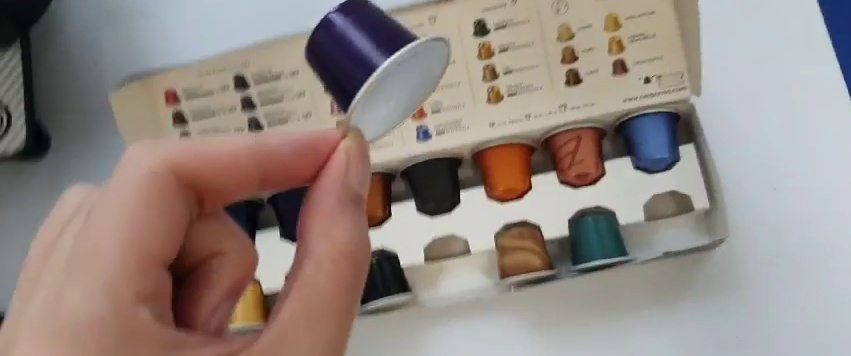capsule_11: (299, 2, 451, 143)
